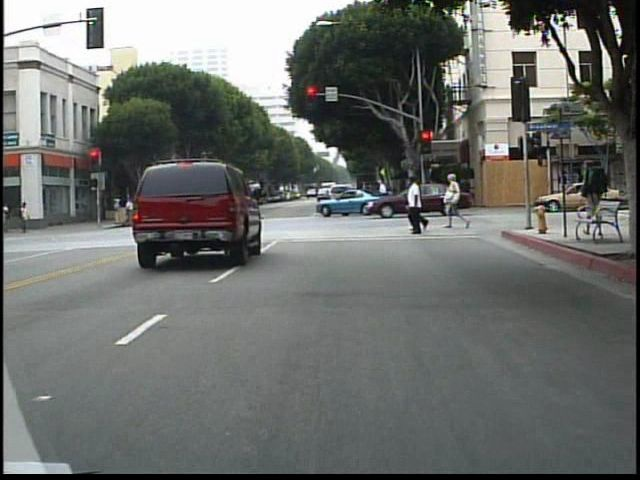person: (576, 153, 608, 205), (441, 173, 469, 230), (407, 177, 432, 234), (404, 177, 421, 232), (374, 177, 396, 215), (252, 180, 269, 228), (143, 190, 160, 232), (356, 179, 373, 216), (402, 178, 418, 216), (19, 202, 35, 236), (2, 200, 15, 235), (123, 193, 135, 230)
